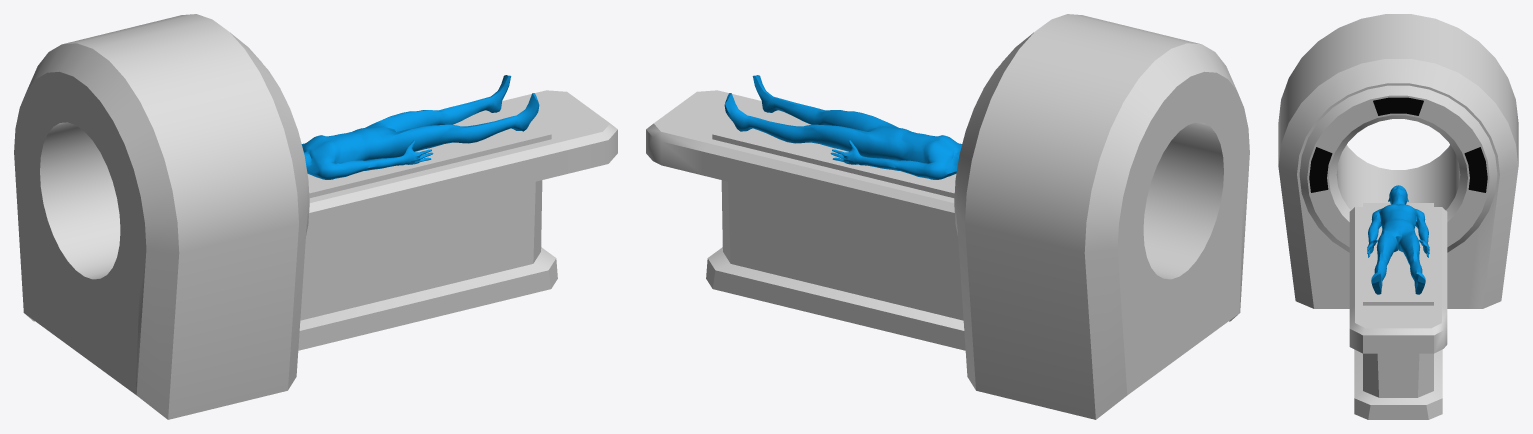
Rendered from MRI3.glb.
3 renders of one model, left to right at view 1: azimuth 30°, elevation 25°; view 2: azimuth 150°, elevation 25°; view 3: azimuth 270°, elevation 25°, orthographic. The views are drawn at different scales.
Visible parts, largest first — view 1: MRI_Room; view 2: MRI_Room; view 3: MRI_Room.
Part boxes in pixels (left/top/right/bottom): MRI_Room: left=14, top=14, right=617, bottom=419; MRI_Room: left=646, top=14, right=1249, bottom=419; MRI_Room: left=1278, top=14, right=1518, bottom=419.
Size of the model in its own units: 0.3398 by 0.1995 by 0.1791.
